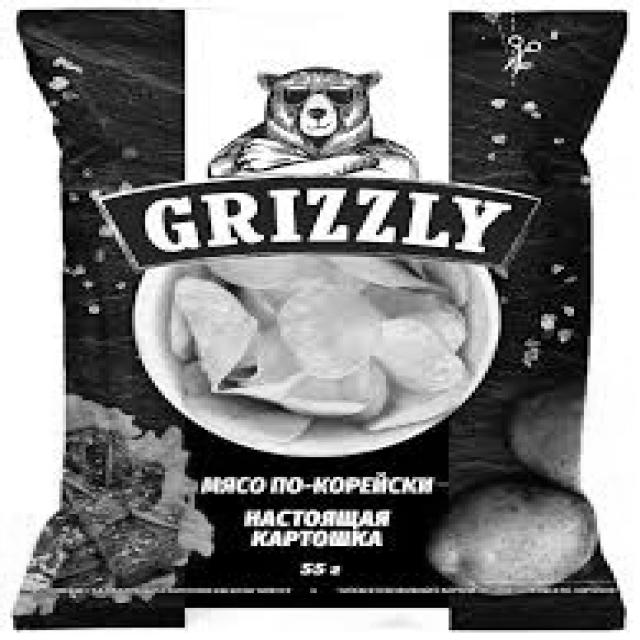grizzly: (99, 63, 548, 271)
